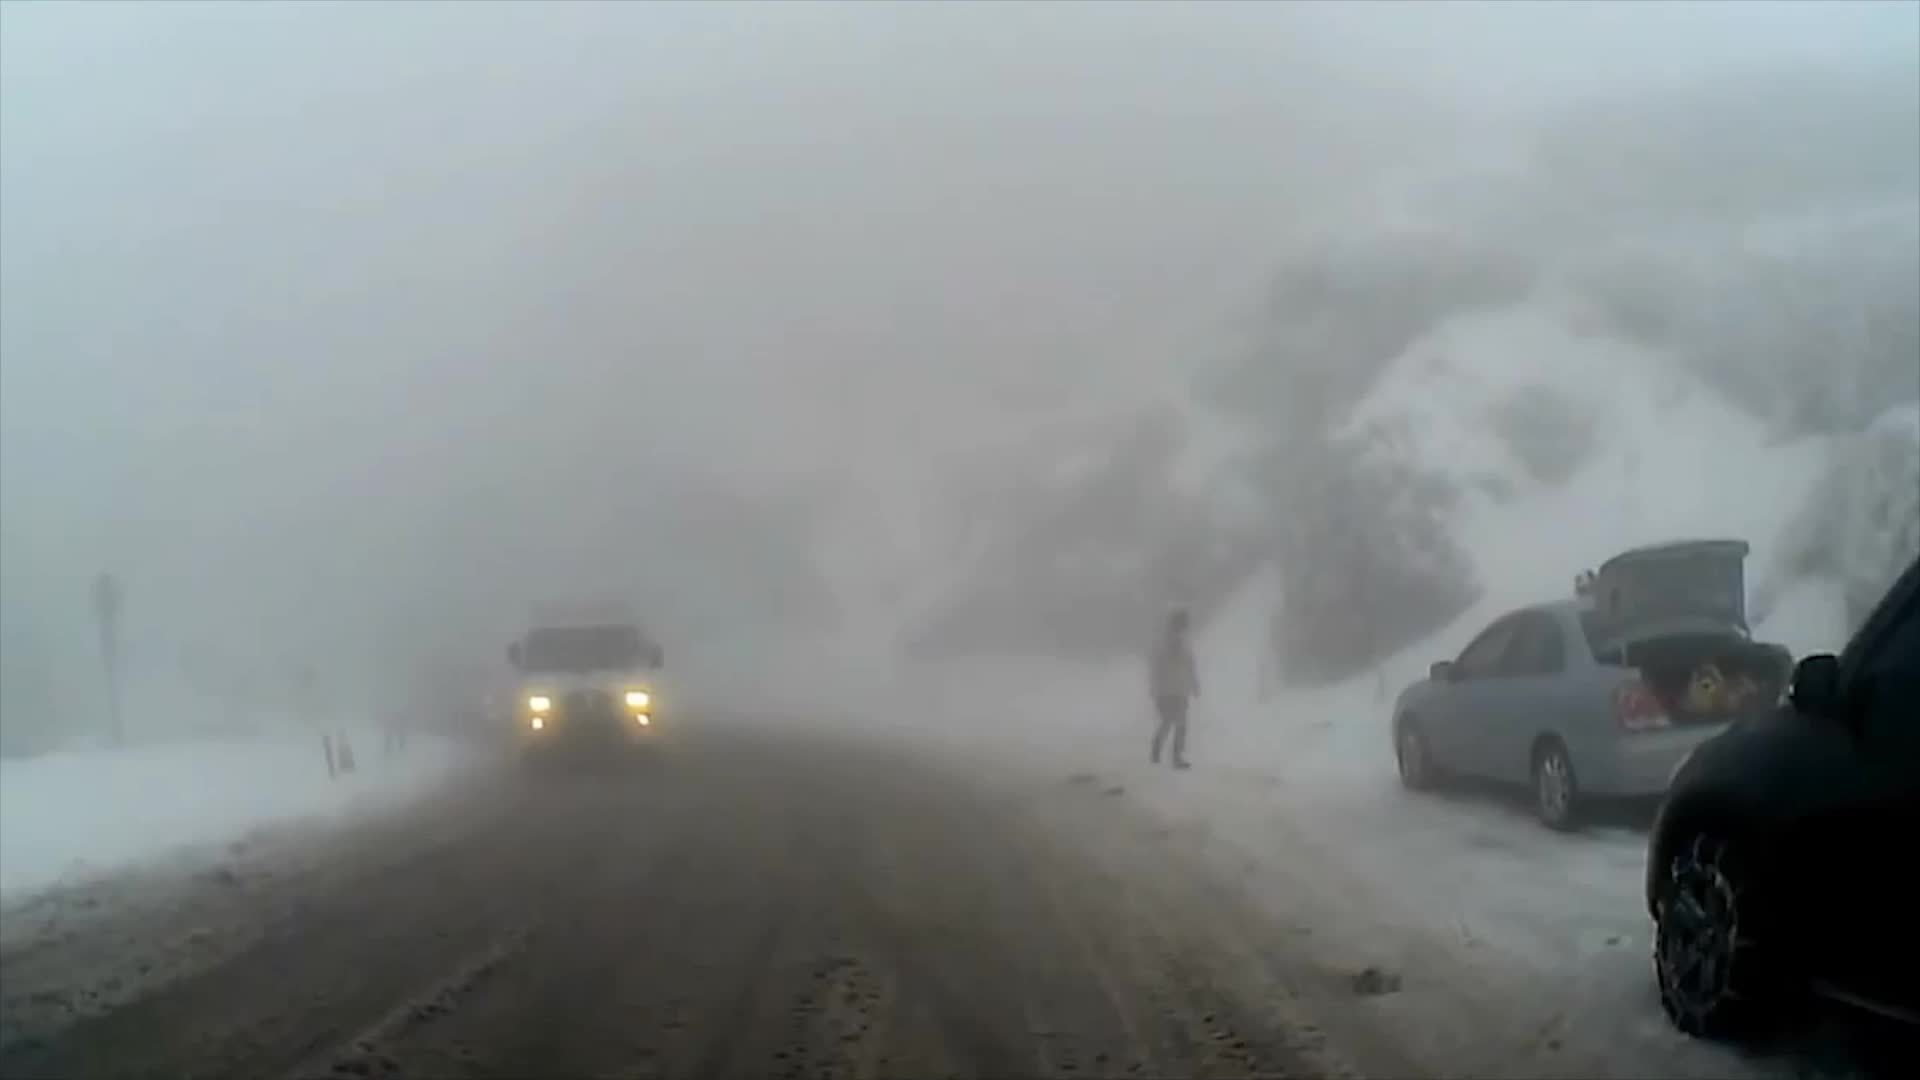pedestrian: (1142, 607, 1199, 768)
vehicle: (1642, 528, 1920, 1079), (1386, 533, 1811, 833), (499, 598, 663, 779)
